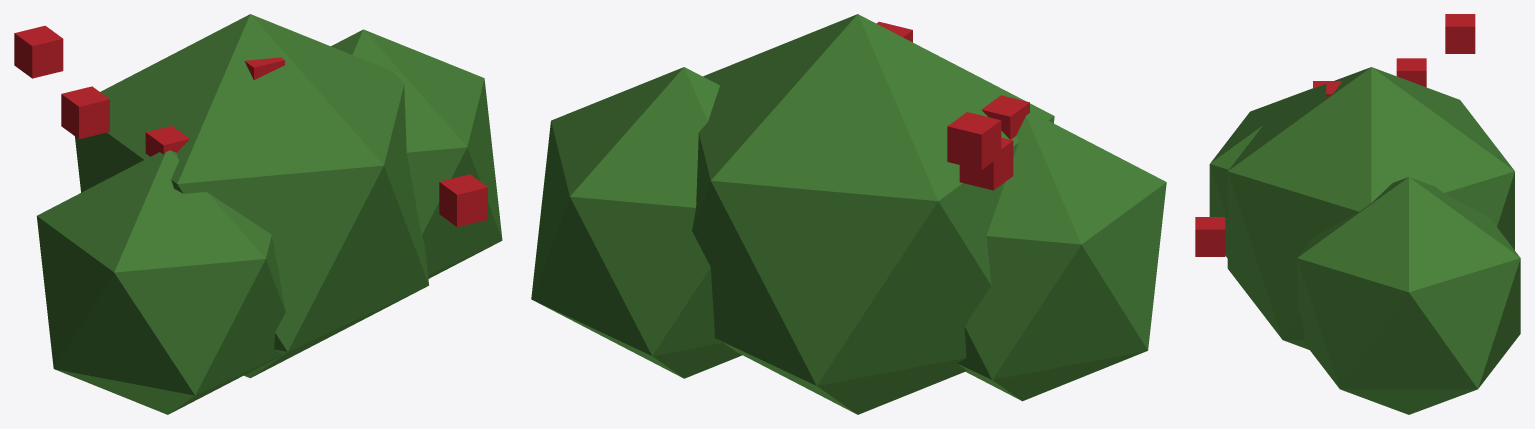
File: bush.glb
3 renders of one model, left to right at view 1: azimuth 30°, elevation 25°; view 2: azimuth 150°, elevation 25°; view 3: azimuth 270°, elevation 25°, orthographic. The views are drawn at different scales.
Parts seen in each view (by area): view 1: bush; view 2: bush; view 3: bush.
Boxes of the visible parts, bbox=[...] form: bush: bbox=[14, 14, 502, 414]; bush: bbox=[531, 14, 1166, 414]; bush: bbox=[1195, 14, 1520, 414].
Bounding box in the file's own units: 1.26 × 0.9 × 0.8671.
